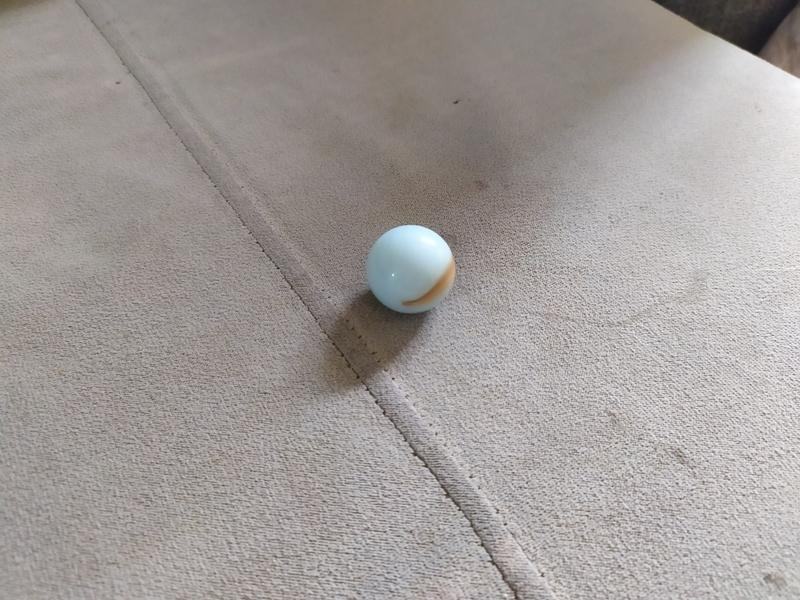Warning: (364, 222, 460, 318)
